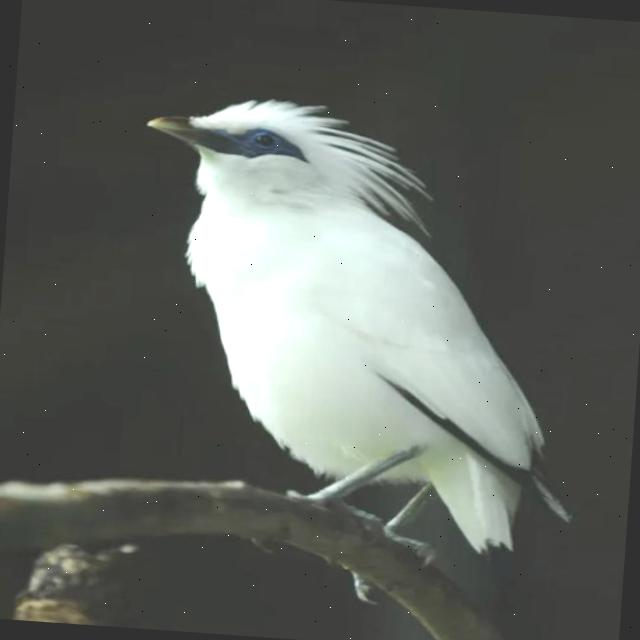Jalak Bali: (77, 67, 627, 596)
